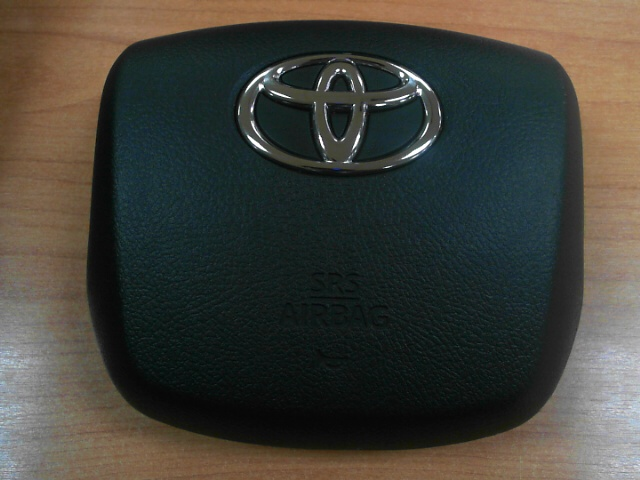AirbagV2: (81, 16, 589, 458)
